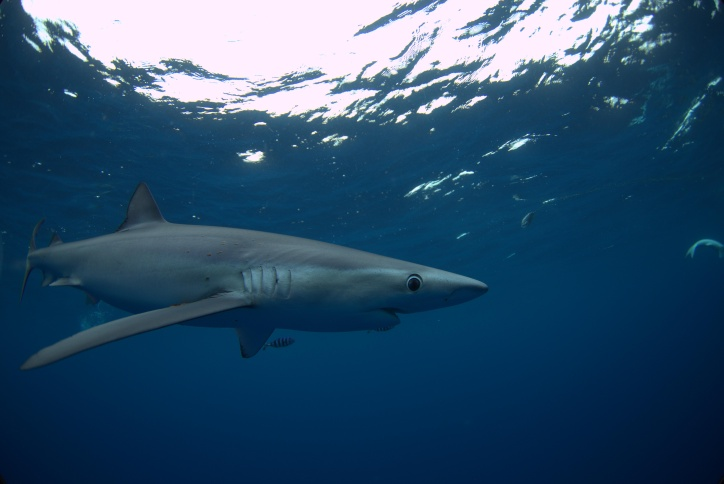Azul: (1, 162, 496, 385)
